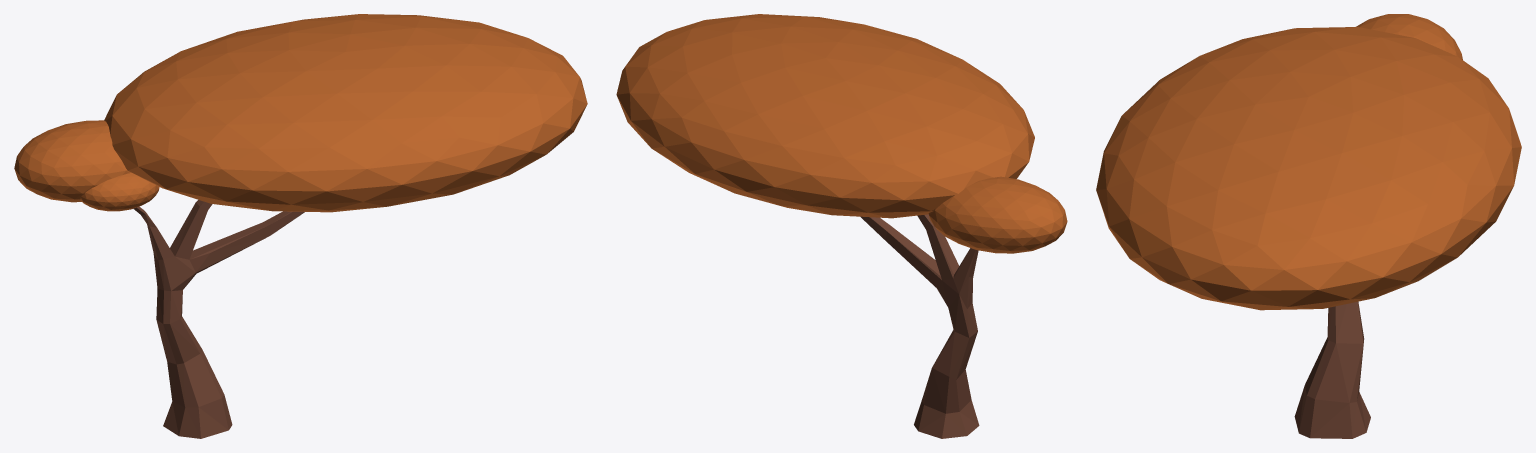
File: medow-tree.glb
3 renders of one model, left to right at view 1: azimuth 30°, elevation 25°; view 2: azimuth 150°, elevation 25°; view 3: azimuth 270°, elevation 25°, orthographic. The views are drawn at different scales.
Visible parts, largest first — view 1: medow-tree-col; view 2: medow-tree-col; view 3: medow-tree-col.
Part boxes in pixels (x1,y1,x2,y2): medow-tree-col: (14, 14, 587, 438); medow-tree-col: (616, 14, 1067, 438); medow-tree-col: (1096, 14, 1521, 438).
Bounding box in the file's own units: 14.92 × 9.87 × 9.38.
